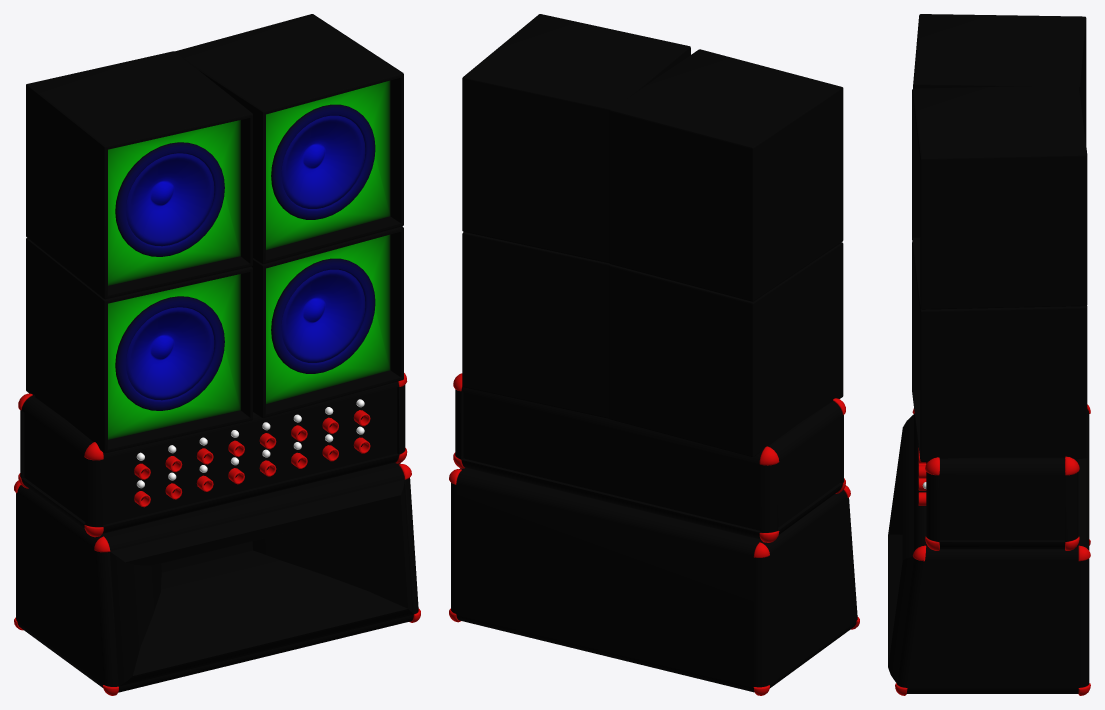
Rendered from ST_SoundSystem.fbx.
The picture shows the model from 3 angles, left to right: view 1: azimuth 30°, elevation 25°; view 2: azimuth 150°, elevation 25°; view 3: azimuth 270°, elevation 25°; orthographic projection. The views are drawn at different scales.
Parts seen in each view (by area): view 1: Sound_System; view 2: Sound_System; view 3: Sound_System.
Boxes of the visible parts, x1,y1,x2,y2 form: Sound_System: [14, 14, 420, 695]; Sound_System: [449, 14, 859, 695]; Sound_System: [888, 14, 1090, 695].
Bounding box in the file's own units: 1.53 × 2.48 × 0.8486.
